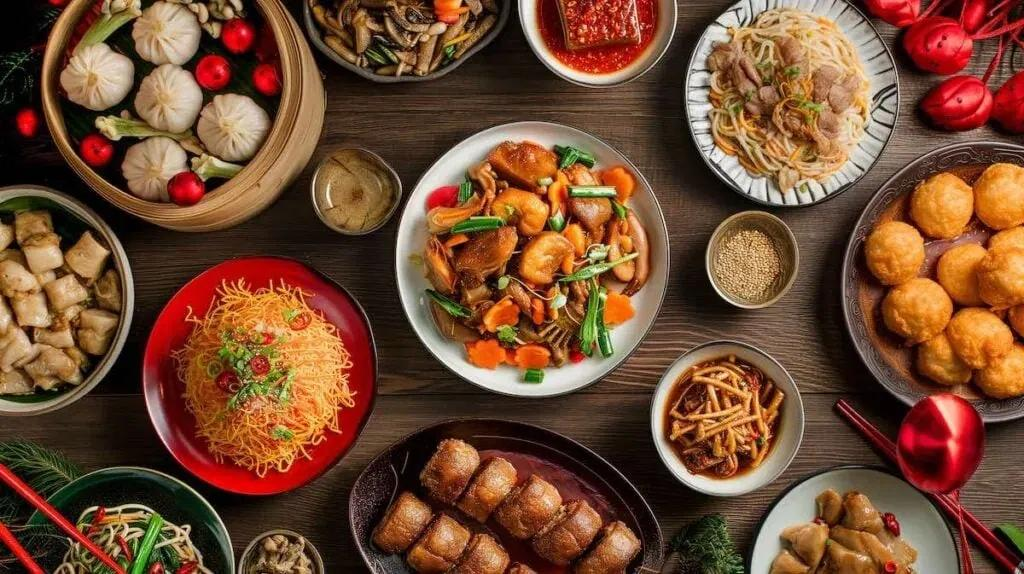Braised Crucian Carp: (394, 121, 662, 397), (43, 3, 323, 232), (141, 256, 369, 494), (836, 143, 1021, 421), (345, 416, 660, 571), (685, 0, 894, 212), (2, 185, 137, 410), (747, 466, 964, 572)
